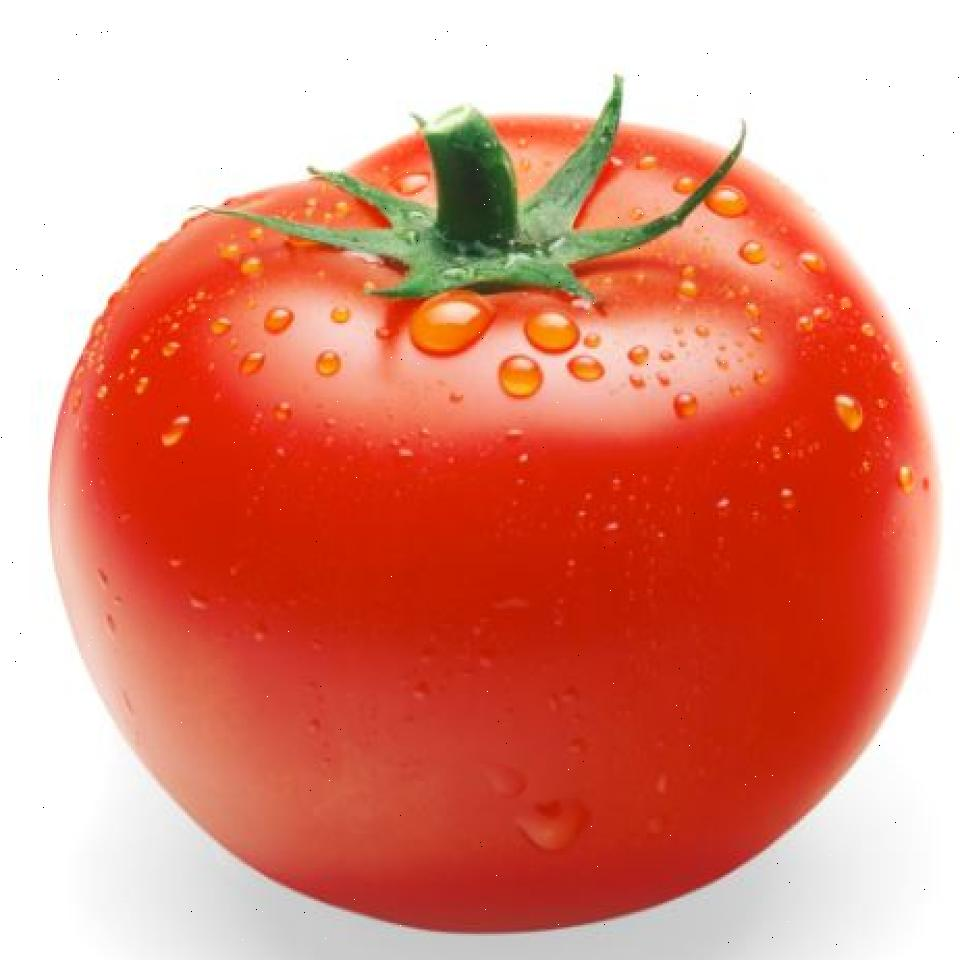Healthy: (36, 58, 939, 902)
